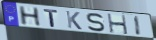H: (106, 13, 130, 36), (18, 5, 43, 27)
I: (134, 15, 143, 37)
K: (64, 10, 83, 31)
S: (86, 13, 107, 33)
T: (43, 9, 60, 28)
